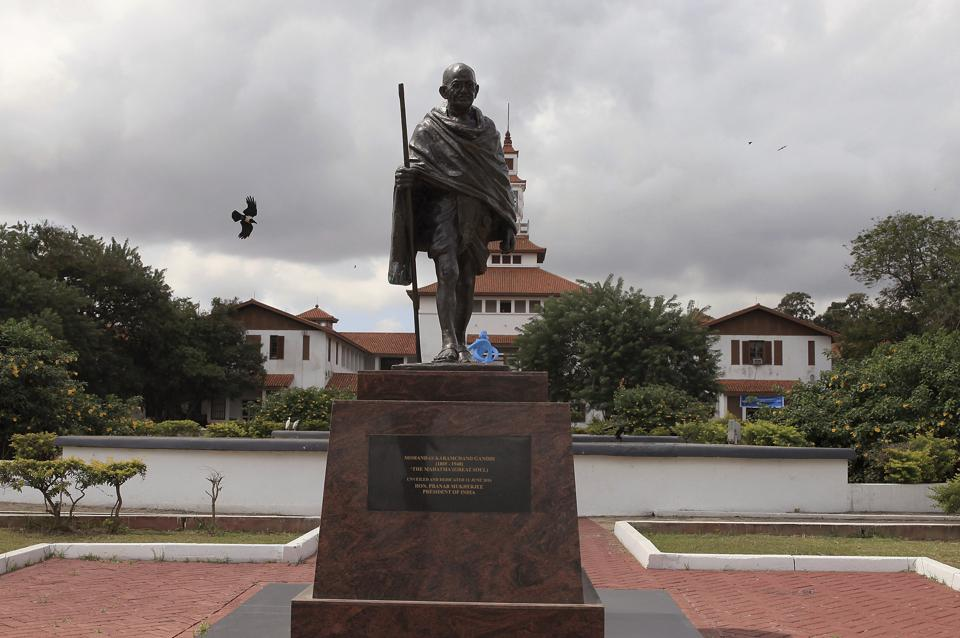person-like: (382, 57, 524, 368)
